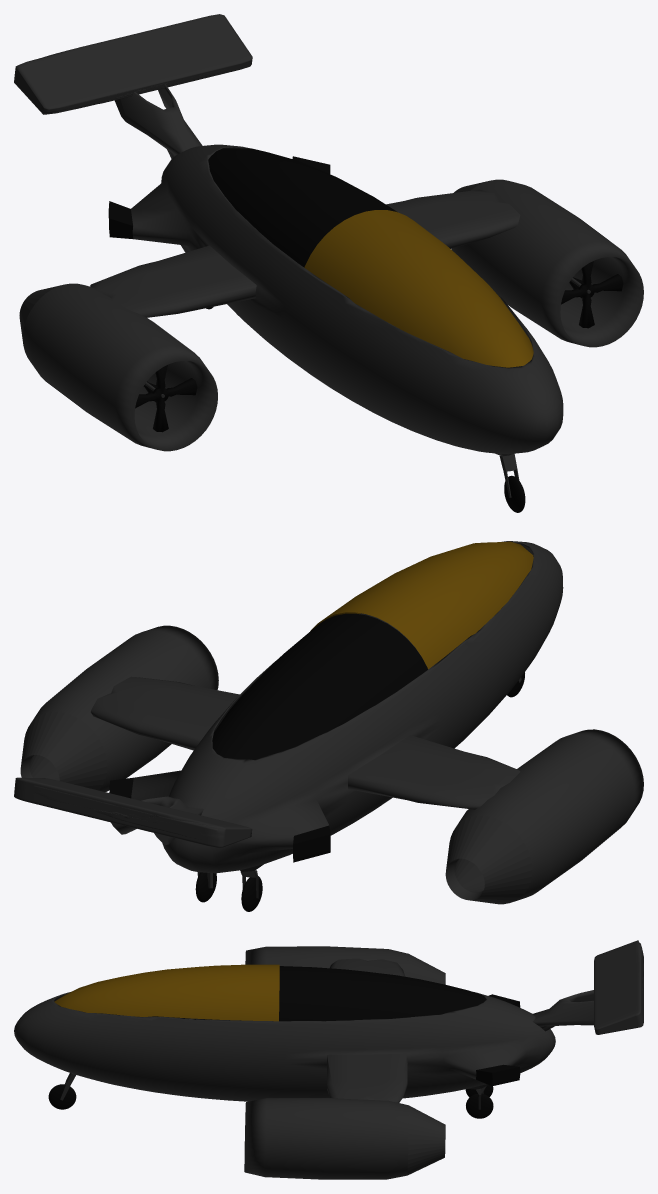
The model's file is glider_fbx.FBX.
3 views of the same model, one above another, from view 1: azimuth 30°, elevation 25°; view 2: azimuth 150°, elevation 25°; view 3: azimuth 270°, elevation 25° (orthographic). The views are drawn at different scales.
Visible parts, largest first — view 1: glider_fbx; view 2: glider_fbx; view 3: glider_fbx.
Boxes of the visible parts, <box> form: glider_fbx: <box>14,14,643,512</box>; glider_fbx: <box>14,541,643,911</box>; glider_fbx: <box>14,940,643,1179</box>.
Size of what is drawn, in the model's own units: 18.73 by 26.79 by 6.59.
